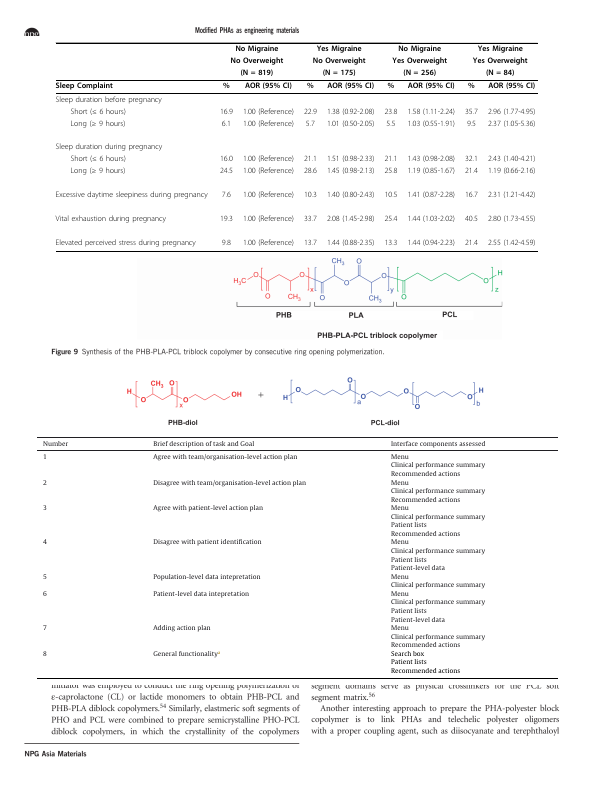borderless: (36, 436, 558, 678), (55, 41, 538, 251)
cell: (389, 505, 485, 539), (389, 539, 485, 573), (389, 591, 485, 625), (389, 479, 485, 505), (389, 454, 485, 479), (389, 625, 485, 650), (389, 651, 461, 676), (389, 573, 485, 590), (55, 191, 209, 200), (152, 479, 306, 488), (55, 239, 197, 248), (152, 454, 298, 462), (55, 95, 163, 105), (55, 143, 163, 153), (55, 215, 167, 224), (152, 539, 262, 548), (152, 573, 261, 582), (152, 440, 255, 449), (152, 505, 263, 513), (389, 440, 486, 449), (152, 591, 249, 599), (152, 650, 221, 659), (69, 107, 127, 117), (69, 155, 127, 165), (69, 119, 126, 129), (69, 167, 126, 177), (55, 82, 114, 91), (242, 107, 295, 117), (242, 119, 295, 129), (242, 155, 295, 165), (242, 167, 295, 177), (391, 57, 448, 66), (472, 57, 528, 66), (406, 107, 456, 117), (406, 119, 456, 129), (406, 155, 456, 165), (406, 167, 456, 177), (326, 107, 375, 117), (487, 107, 536, 117), (326, 119, 375, 129), (487, 119, 536, 129), (326, 155, 375, 165), (487, 155, 536, 165), (326, 167, 375, 177), (487, 167, 536, 177), (230, 57, 284, 66), (312, 57, 366, 66), (242, 191, 295, 200), (242, 215, 295, 224), (242, 239, 295, 248), (152, 625, 211, 633), (406, 191, 456, 200), (406, 215, 456, 224), (406, 239, 456, 248), (244, 82, 293, 91), (326, 82, 375, 91), (487, 82, 536, 91), (326, 191, 375, 200), (487, 191, 536, 200), (326, 215, 375, 224), (487, 215, 536, 224), (326, 239, 375, 248), (487, 239, 536, 248), (407, 82, 455, 91), (316, 45, 363, 54), (477, 45, 524, 54), (234, 45, 279, 54), (397, 45, 442, 54), (239, 69, 274, 78), (402, 69, 437, 78), (322, 69, 356, 78), (485, 69, 515, 78), (41, 440, 69, 449), (219, 107, 234, 117), (303, 107, 318, 117), (383, 107, 398, 117), (464, 107, 479, 117), (219, 155, 234, 165), (303, 155, 318, 165), (383, 155, 398, 165), (464, 155, 479, 165), (219, 167, 234, 177), (303, 167, 318, 177), (383, 167, 398, 177), (464, 167, 479, 177), (303, 191, 318, 200), (383, 191, 398, 200), (464, 191, 479, 200), (219, 215, 234, 224), (303, 215, 318, 224), (383, 215, 398, 224), (464, 215, 479, 224), (303, 239, 318, 248), (383, 239, 398, 248), (464, 239, 479, 248), (221, 119, 232, 129), (305, 119, 316, 129), (385, 119, 396, 129), (466, 119, 477, 129), (221, 191, 232, 200), (221, 239, 232, 248), (222, 82, 231, 91), (306, 82, 315, 91), (386, 82, 395, 91), (467, 82, 476, 91), (41, 479, 47, 488), (41, 539, 47, 548), (41, 573, 47, 582), (41, 454, 47, 462), (41, 505, 47, 513), (41, 591, 47, 599), (41, 625, 47, 633), (41, 651, 47, 659)
